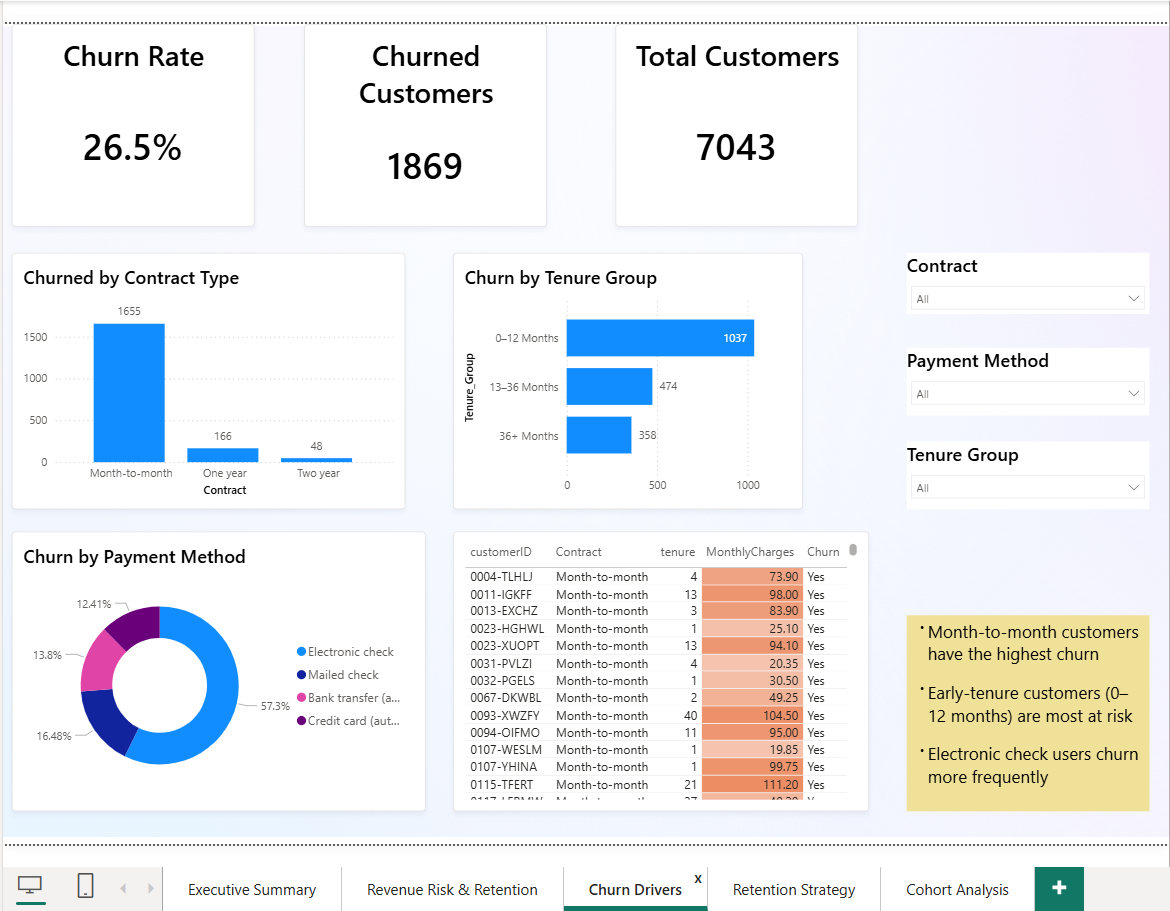

The dashboard page shown, as its layout file describes it:
{"tool":"powerbi","page":{"name":"Churn Drivers","canvas":[1280,900],"ordinal":2},"visuals":[{"type":"card","title":"Churn Rate","fields":{"Values":["customers.Churn Rate %"]},"box":[9.6,0,266.2,222.3],"z":0},{"type":"card","title":"Churned Customers","fields":{"Values":["customers.Churned Customers"]},"box":[330.7,0,266.2,222.3],"z":1000},{"type":"card","title":"Total Customers","fields":{"Values":["customers.Total Customers"]},"box":[672.4,0,266.2,222.3],"z":2000},{"type":"clusteredColumnChart","title":"Churned by Contract Type","fields":{"Category":["customers.Contract"],"Y":["customers.Churned Customers"]},"box":[9.6,251.1,432.2,281.3],"z":3000},{"type":"clusteredBarChart","title":"Churn by Tenure Group","fields":{"Category":["customers.Tenure_Group"],"Y":["customers.Churned Customers"]},"box":[494,251.1,384.2,281.3],"z":4000},{"type":"donutChart","title":"Churn by Payment Method","fields":{"Category":["customers.PaymentMethod"],"Y":["customers.Churned Customers"]},"box":[9.6,557.1,454.2,307.4],"z":5000},{"type":"tableEx","fields":{"Values":["customers.customerID","customers.Contract","customers.tenure","customers.MonthlyCharges","customers.Churn"]},"box":[494,557.1,456.9,307.4],"z":6000},{"type":"slicer","title":"Contract","fields":{"Values":["customers.Contract"]},"box":[992.1,251.1,266.2,67.2],"z":7000},{"type":"slicer","title":"Payment Method","fields":{"Values":["customers.PaymentMethod"]},"box":[992.1,355.4,266.2,74.1],"z":8000},{"type":"slicer","title":"Tenure Group","fields":{"Values":["customers.Tenure_Group"]},"box":[992.1,458.3,266.2,74.1],"z":9000},{"type":"textbox","box":[992.1,649.1,266.2,215.4],"z":10000}]}

Visuals, with their boxes on the page's 1280x900 design canvas (x1, y1, x2, y2). These are canvas units, not pixel positions in the 1170x911 screenshot, which may show the page scaled, cropped or inside an application window:
"Churn Rate" card: x1=10 y1=0 x2=276 y2=222
"Churned Customers" card: x1=331 y1=0 x2=597 y2=222
"Total Customers" card: x1=672 y1=0 x2=939 y2=222
"Churned by Contract Type" clusteredColumnChart: x1=10 y1=251 x2=442 y2=532
"Churn by Tenure Group" clusteredBarChart: x1=494 y1=251 x2=878 y2=532
"Churn by Payment Method" donutChart: x1=10 y1=557 x2=464 y2=864
tableEx - customers.customerID x customers.Contract: x1=494 y1=557 x2=951 y2=864
"Contract" slicer: x1=992 y1=251 x2=1258 y2=318
"Payment Method" slicer: x1=992 y1=355 x2=1258 y2=430
"Tenure Group" slicer: x1=992 y1=458 x2=1258 y2=532
textbox: x1=992 y1=649 x2=1258 y2=864
